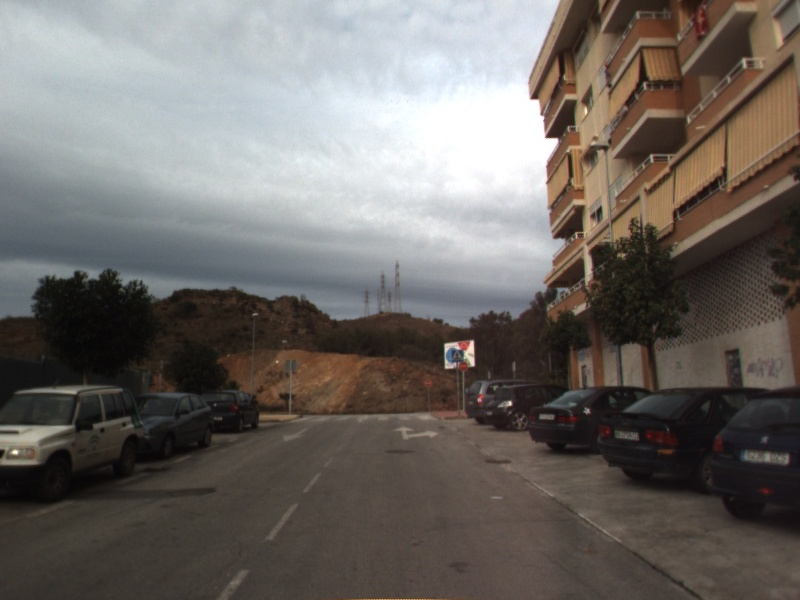STRAIGHT_RIGHT: (391, 424, 441, 442)
